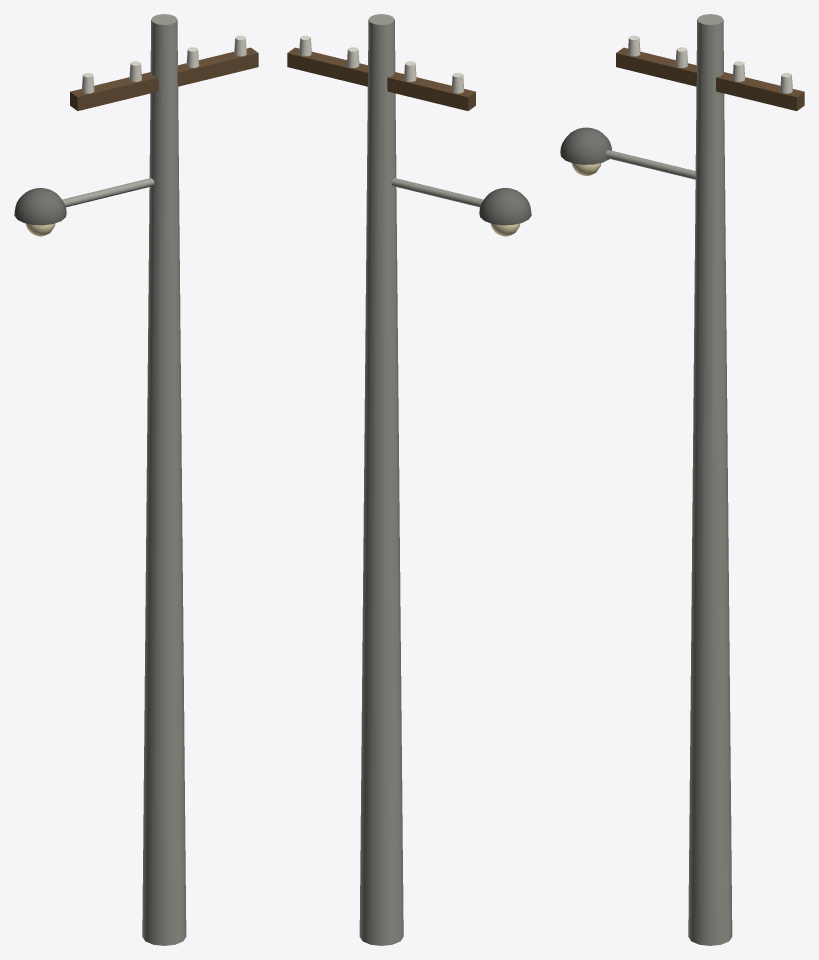
The model's file is poste.glb.
3 renders of one model, left to right at view 1: azimuth 30°, elevation 25°; view 2: azimuth 150°, elevation 25°; view 3: azimuth 330°, elevation 25°, orthographic.
Parts seen in each view (by area): view 1: poste; view 2: poste; view 3: poste.
Part boxes in pixels (x1,y1,x2,y2): poste: (14,14,258,945); poste: (287,14,531,945); poste: (560,14,804,945).
Bounding box in the file's own units: 2.49 × 9.2 × 0.48.
